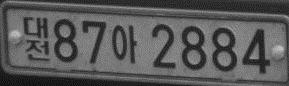2: (150, 23, 176, 68)
4: (241, 29, 270, 74)
7: (81, 20, 107, 63)
8: (211, 26, 237, 72), (181, 25, 207, 70), (53, 17, 78, 63)
대전_V: (23, 16, 50, 62)
아: (111, 24, 137, 63)
